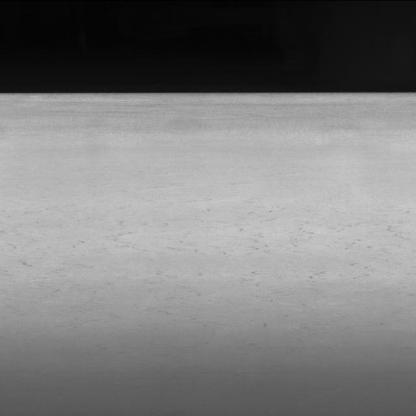silk_spot: (21, 198, 416, 323)
